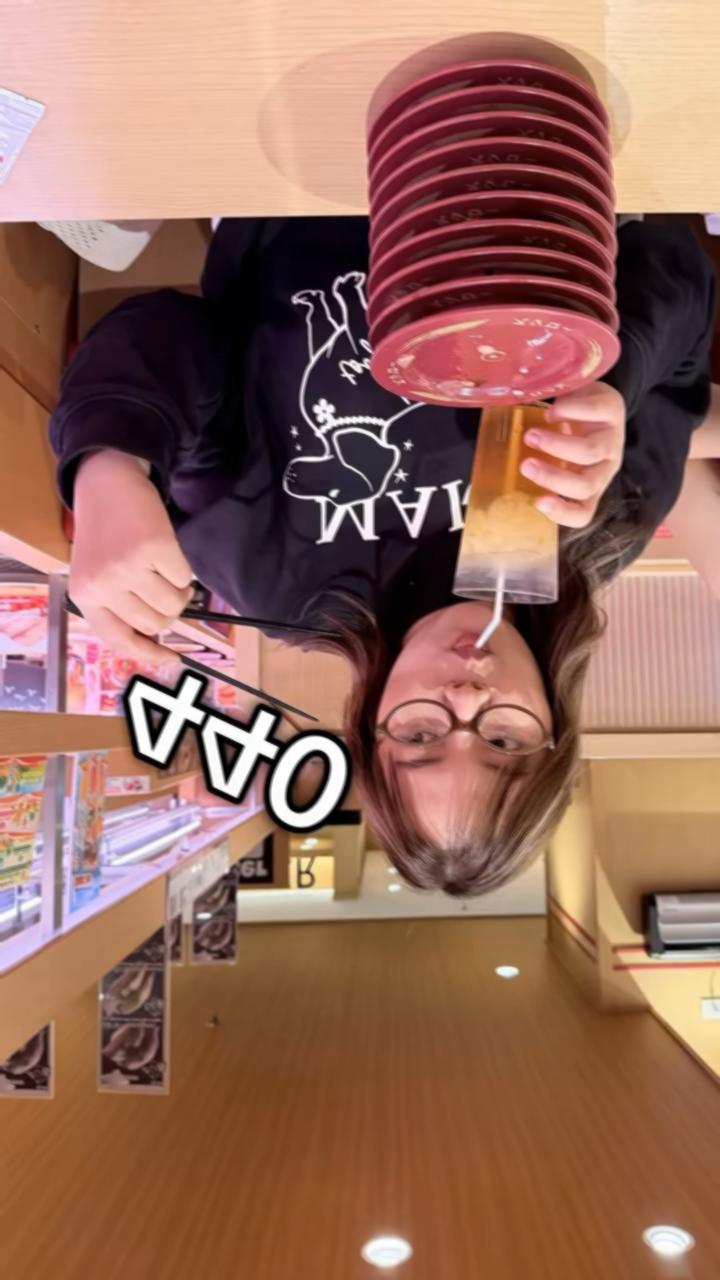Janred: (370, 322, 627, 387), (398, 276, 588, 314), (425, 190, 594, 220), (416, 223, 591, 248), (426, 162, 595, 187), (439, 59, 597, 84), (433, 135, 599, 157), (409, 252, 586, 272), (436, 109, 583, 129), (437, 88, 598, 101)
